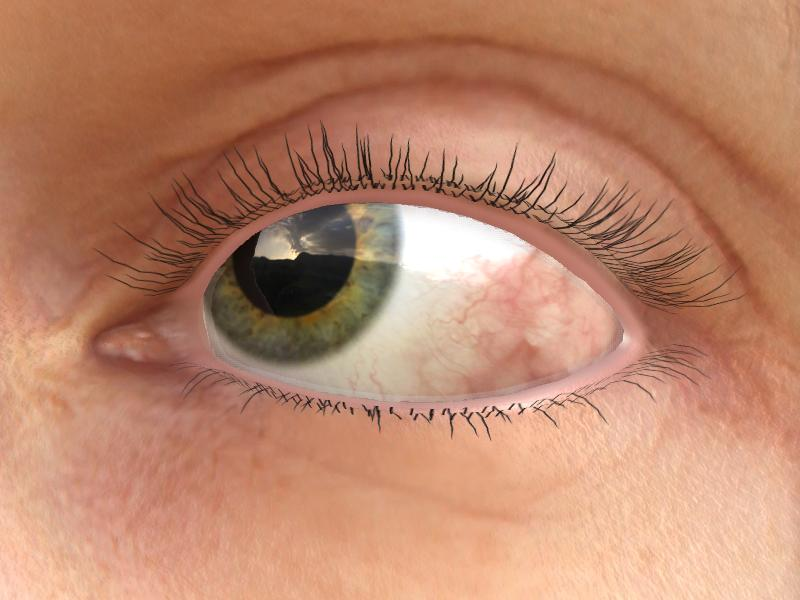eye: (206, 201, 402, 365)
